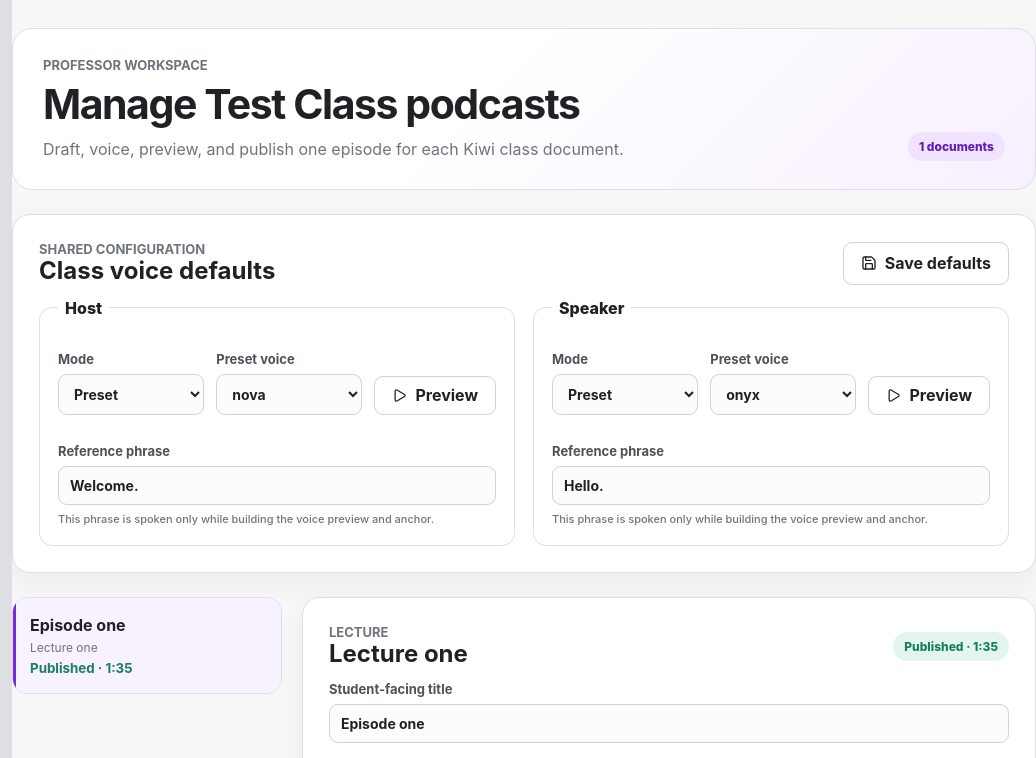
it: PodcastManager › shows only fields relevant to the selected voice mode and removes target minutes
Expected: the field labelled "Voice description" is not shown
Expected: the field labelled "Custom seed" is not shown
Step 1. Select "Custom prompt" in the 1st dropdown labelled "Mode" → (131, 394), box [58, 374, 204, 415]
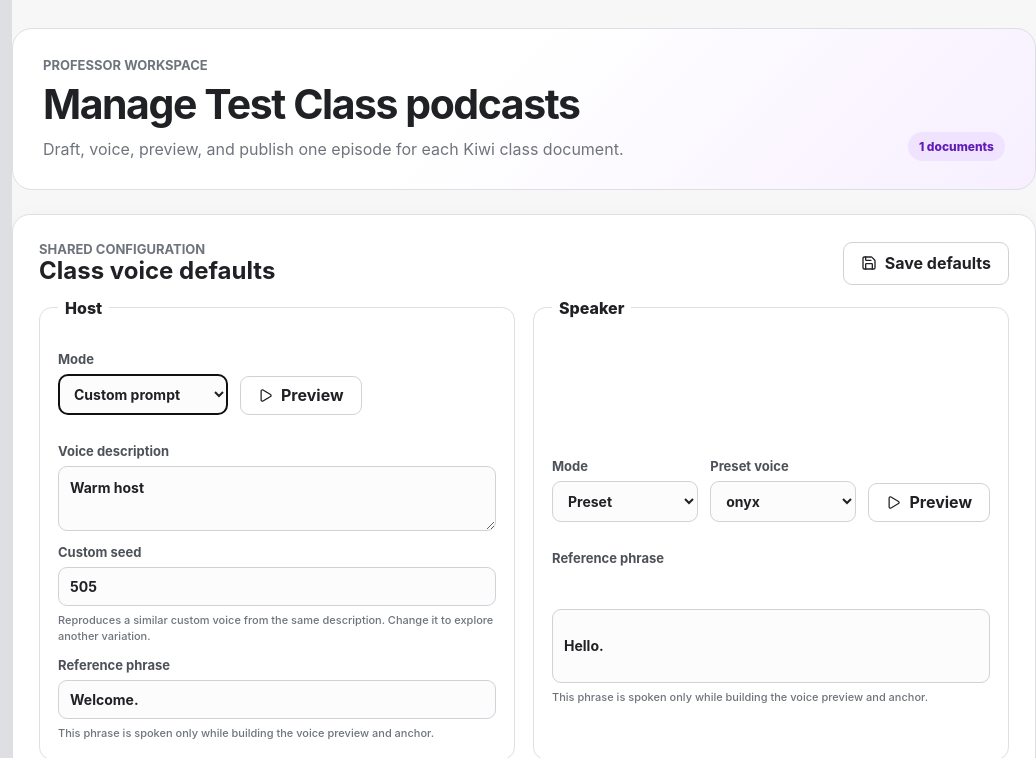
Result: the text box labelled "Voice description" is shown at [58, 466, 496, 531]
Result: the number field labelled "Custom seed" is shown at [58, 567, 496, 606]
Result: the number of dropdowns labelled "Preset voice" is 3
